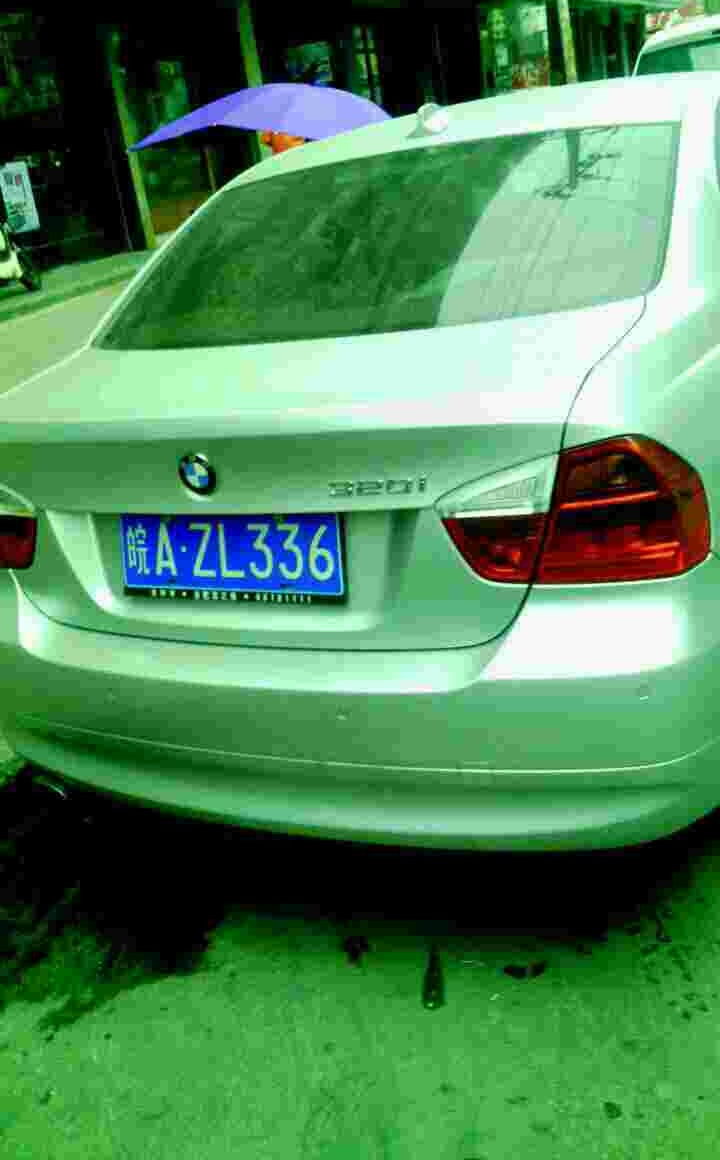license_plate: (117, 512, 345, 600)
